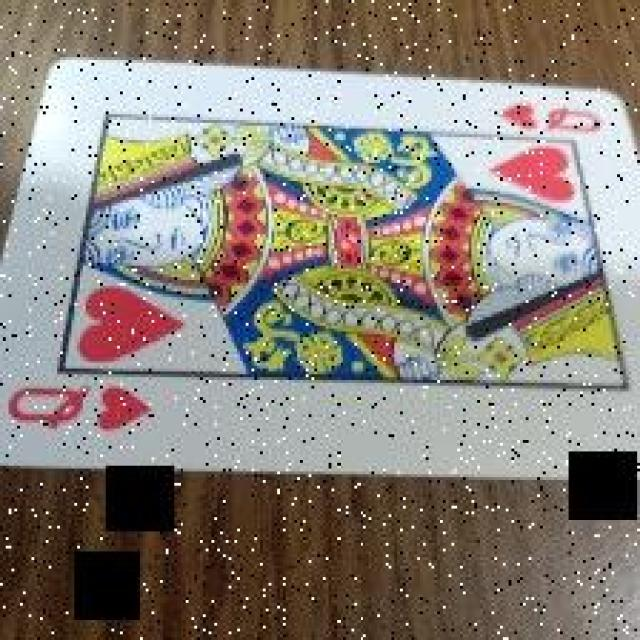Queen of hearts: (0, 73, 634, 585)
